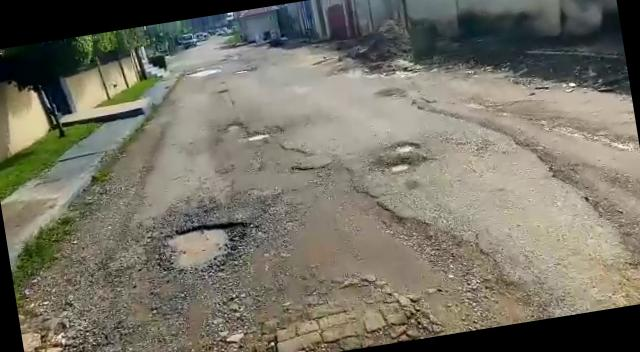pothole: (162, 218, 252, 282), (388, 138, 421, 158), (246, 129, 270, 143), (388, 160, 410, 175), (222, 120, 242, 133)
